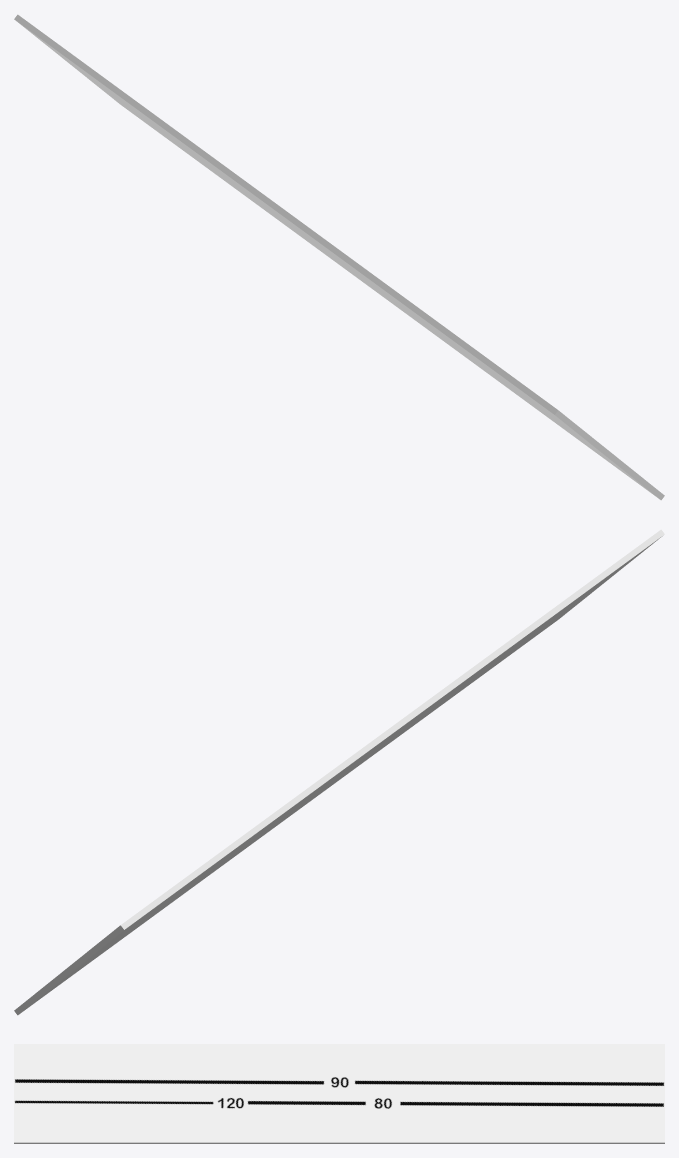
The model's file is tag.fbx.
3 views of the same model, one above another, from view 1: azimuth 30°, elevation 25°; view 2: azimuth 150°, elevation 25°; view 3: azimuth 270°, elevation 25° (orthographic). The views are drawn at different scales.
Visible parts, largest first — view 1: pCube4; view 2: pCube4; view 3: pCube4.
Boxes of the visible parts, box(x1,y1,x2,y2) form: pCube4: box(14, 14, 664, 500); pCube4: box(14, 529, 664, 1015); pCube4: box(14, 1044, 664, 1143).
Bounding box in the file's own units: 0.8323 × 0.8323 × 7.07.
2 materials, 1 textured.
